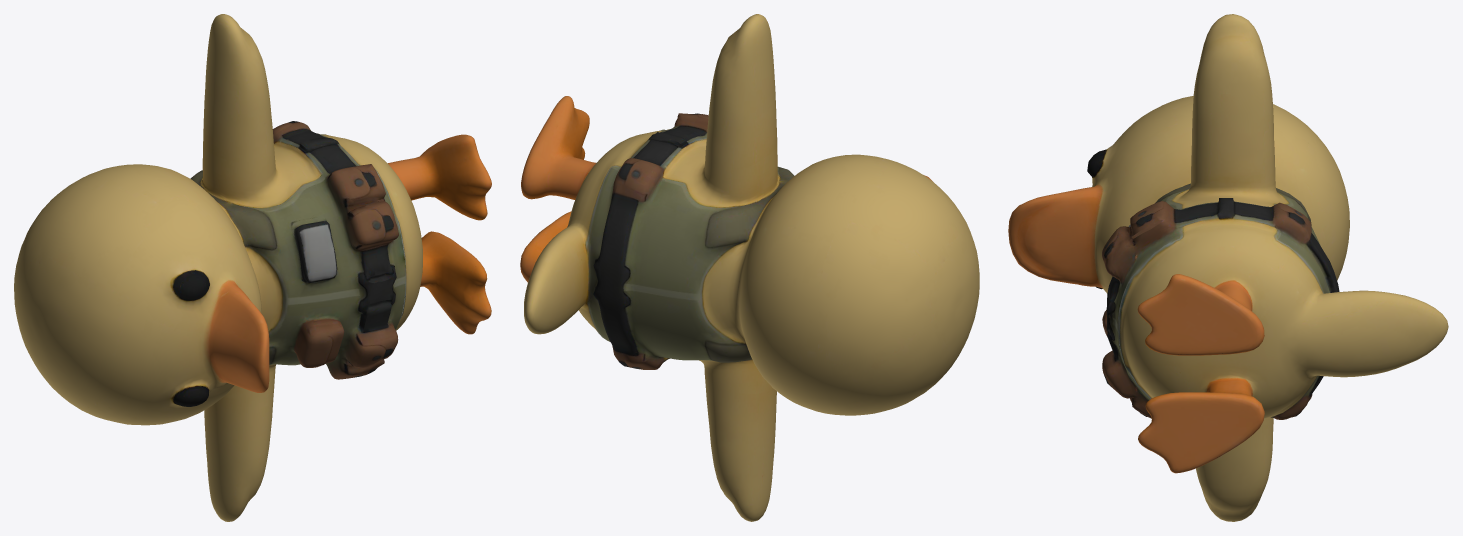
The model's file is military+duck+3d+model.fbx.
3 renders of one model, left to right at view 1: azimuth 30°, elevation 25°; view 2: azimuth 150°, elevation 25°; view 3: azimuth 270°, elevation 25°, orthographic.
Parts seen in each view (by area): view 1: tripo_node_0045d532; view 2: tripo_node_0045d532; view 3: tripo_node_0045d532.
Part boxes in pixels (x1,y1,x2,y2): tripo_node_0045d532: [14, 14, 491, 521]; tripo_node_0045d532: [520, 14, 979, 521]; tripo_node_0045d532: [1008, 14, 1448, 521].
Size of the model in its own units: 86.39 by 78.49 by 99.68.
Materials: 1 (1 with a texture image).
